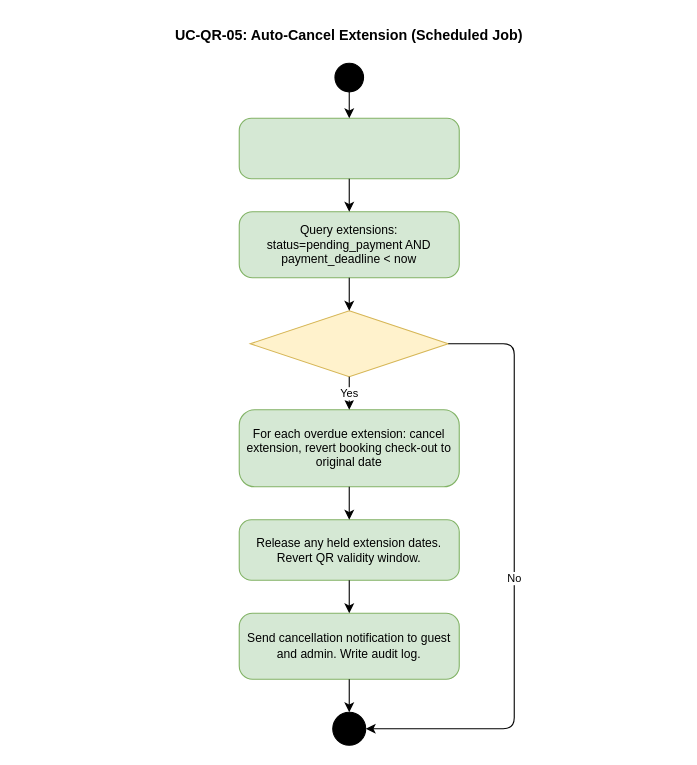
This 697x765 diagram has some shape labels left out. The shapes that lost their labels are listed below. From the top down, each one's box as (x1, y1, x2, y2) in pixels, then its label:
(238, 117, 459, 179): Scheduled job runs on configured interval
(249, 310, 448, 377): Any overdue extensions found?
